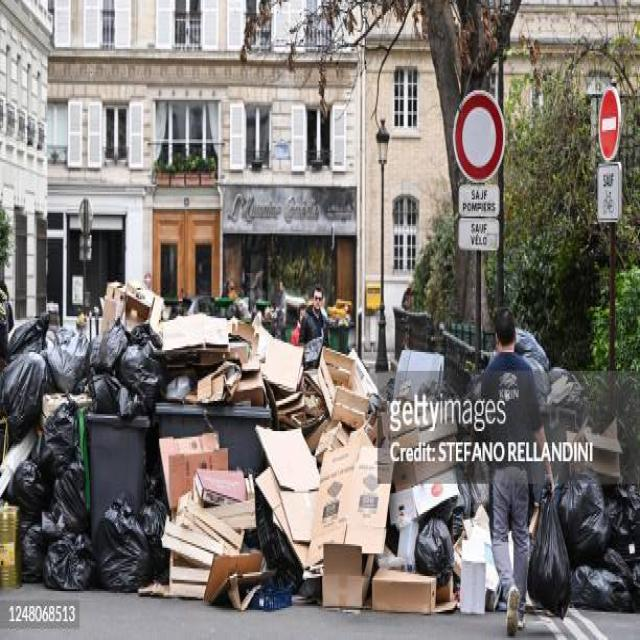cardboard: (247, 433, 395, 612), (161, 314, 371, 430), (162, 444, 252, 602)
trash: (408, 439, 616, 623), (5, 312, 146, 580)
